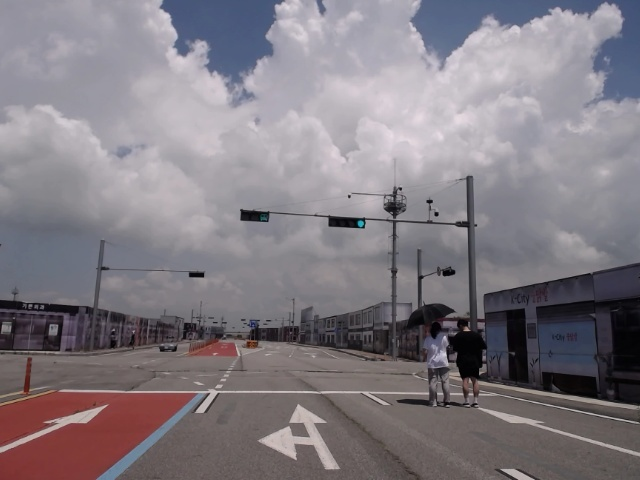straight_green_4: (328, 217, 367, 229)
